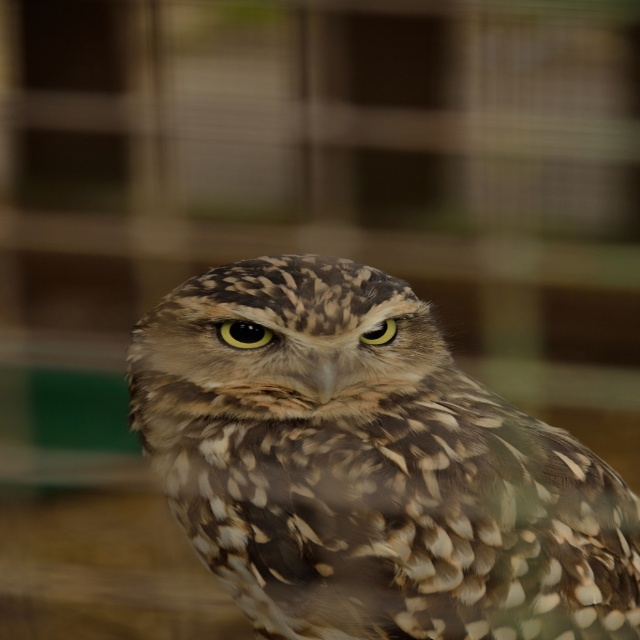Owl: (127, 251, 639, 640)
